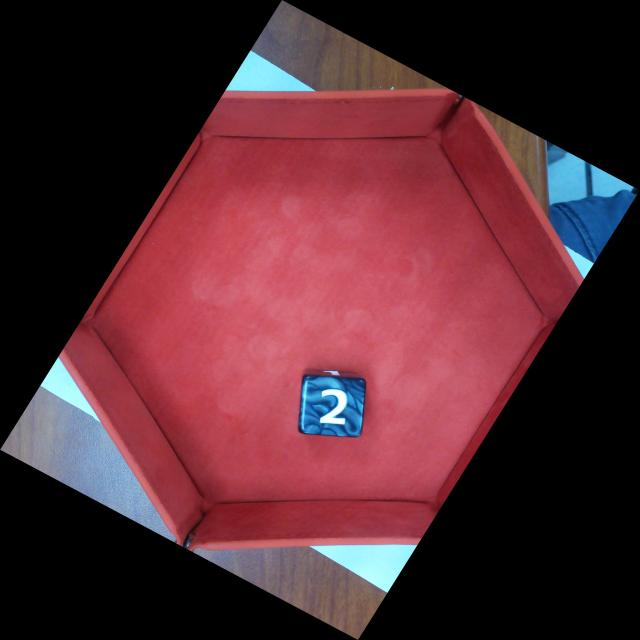dice: (296, 373, 368, 439)
